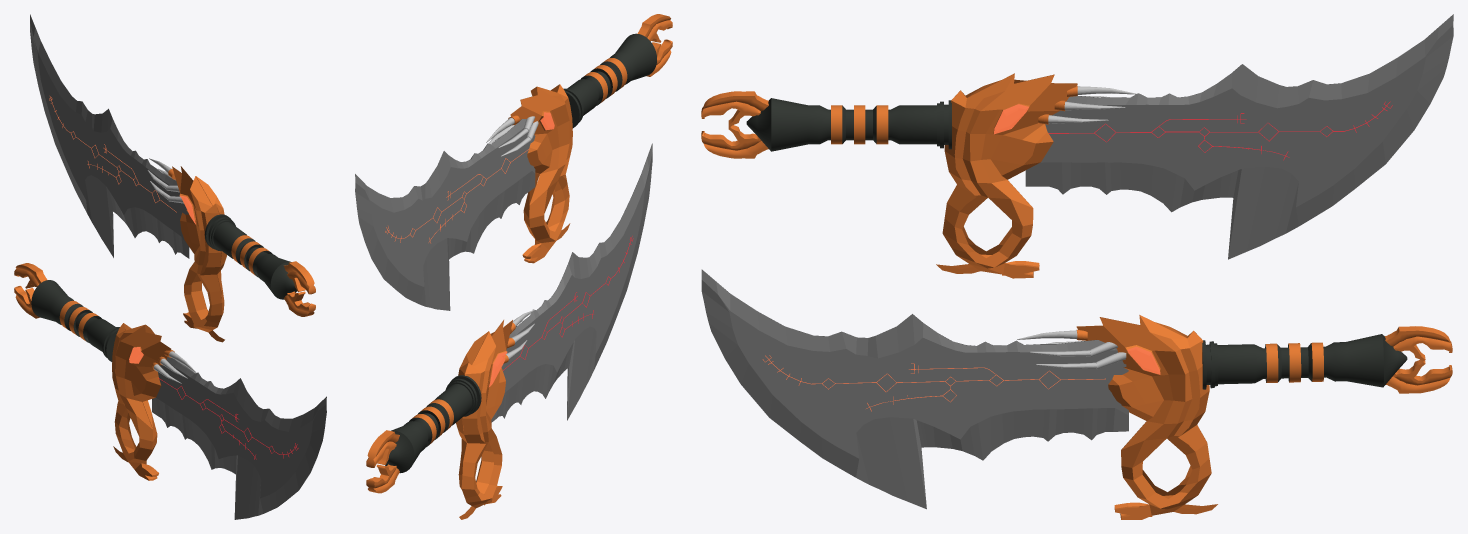
File: blades.glb
The picture shows the model from 3 angles, left to right: view 1: azimuth 30°, elevation 25°; view 2: azimuth 150°, elevation 25°; view 3: azimuth 270°, elevation 25°; orthographic projection. The views are drawn at different scales.
Visible parts, largest first — view 1: Blades_1.001, Blades_2, Ornament_handle001.001, Ornament_handle001, Handle, Handle.001, Handle_decor, Handle_decor.001, Design2.001, Design; view 2: Blades_2, Blades_1.001, Ornament_handle001, Ornament_handle001.001, Handle.001, Handle, Handle_decor.001, Handle_decor, Design, Design2.001; view 3: Blades_2.001, Blades_1, Ornament_handle001, Ornament_handle001.001, Handle.001, Handle, Handle_decor, Handle_decor.001.
Boxes of the visible parts, box(x1,y1,x2,y2) form: Blades_1.001: box(152, 357, 326, 519); Blades_2: box(30, 15, 189, 258); Ornament_handle001.001: box(112, 323, 171, 480); Ornament_handle001: box(172, 166, 226, 342); Handle: box(204, 214, 296, 299); Handle.001: box(31, 280, 119, 361); Handle_decor: box(284, 261, 315, 316); Handle_decor.001: box(14, 263, 47, 318); Design2.001: box(158, 378, 298, 459); Design: box(49, 96, 176, 212); Blades_2: box(355, 119, 535, 310); Blades_1.001: box(491, 143, 652, 422); Ornament_handle001: box(510, 84, 572, 263); Ornament_handle001.001: box(456, 320, 512, 519); Handle.001: box(385, 375, 481, 473); Handle: box(563, 33, 656, 128); Handle_decor.001: box(366, 430, 399, 493); Handle_decor: box(637, 14, 672, 76); Design: box(385, 148, 529, 243); Design2.001: box(503, 236, 633, 370); Blades_2.001: box(701, 269, 1128, 509); Blades_1: box(1025, 14, 1453, 259); Ornament_handle001: box(936, 73, 1077, 278); Ornament_handle001.001: box(1076, 315, 1217, 519); Handle.001: box(1202, 334, 1407, 389); Handle: box(746, 98, 951, 151); Handle_decor: box(701, 91, 768, 158); Handle_decor.001: box(1385, 326, 1452, 393).
Size of the model in its own units: 0.428 by 3.47 by 4.68.
